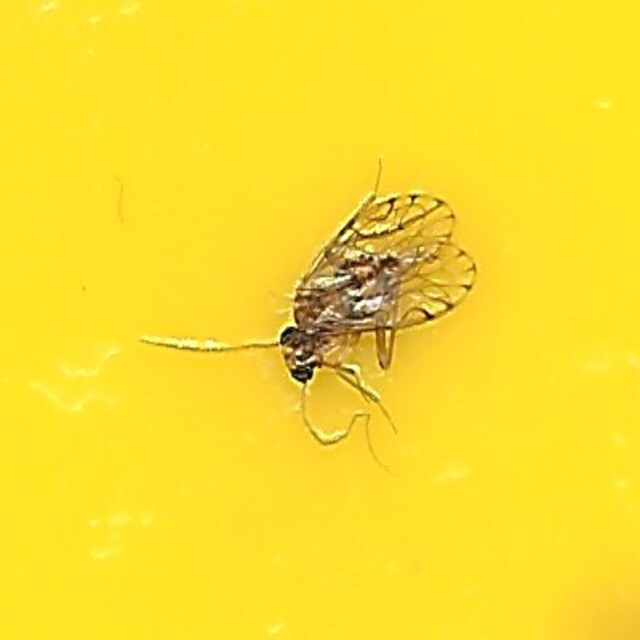Psocoptera: (160, 190, 480, 450)
